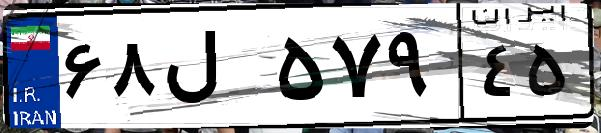4: (475, 38, 525, 113)
5: (270, 28, 330, 110), (525, 38, 570, 115)
6: (57, 26, 110, 100)
7: (330, 28, 385, 110)
8: (110, 28, 158, 98)
9: (385, 28, 445, 110)
ل: (158, 20, 270, 120)
